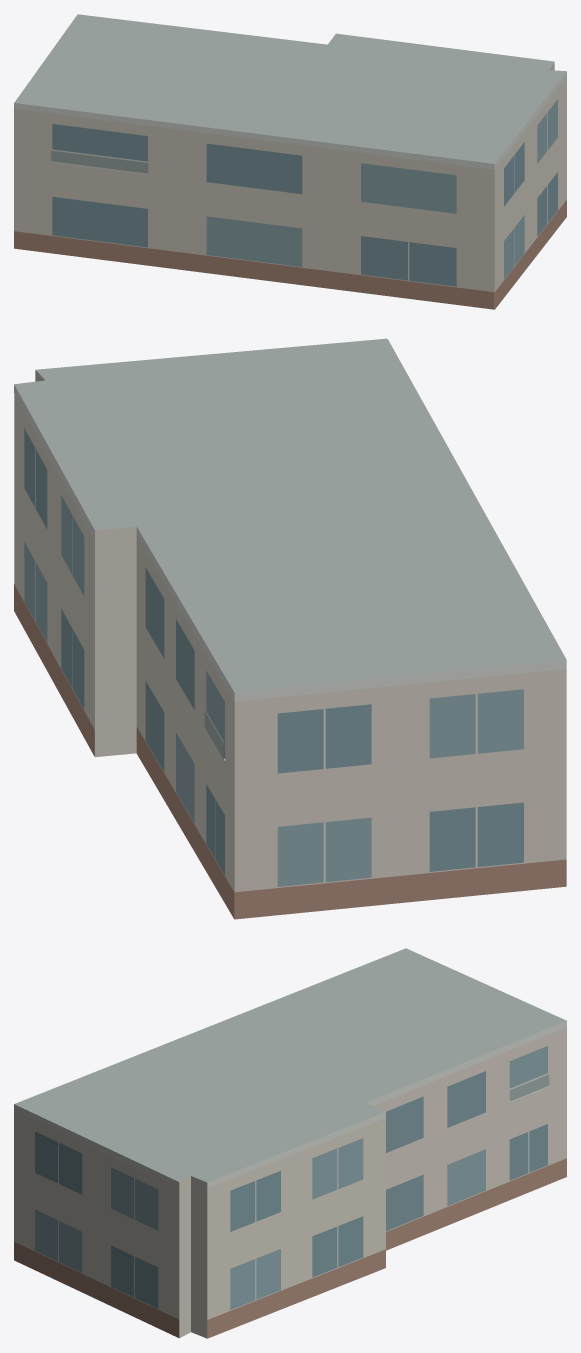
Rendered from survey-upis-32674812.glb.
3 renders of one model, top to bottom at view 1: azimuth 30°, elevation 25°; view 2: azimuth 150°, elevation 25°; view 3: azimuth 270°, elevation 25°, orthographic. The views are drawn at different scales.
Parts seen in each view (by area): view 1: survey-upis-32674812.tmp; view 2: survey-upis-32674812.tmp; view 3: survey-upis-32674812.tmp.
Boxes of the visible parts, box(x1,y1,x2,y2) form: survey-upis-32674812.tmp: box(14, 14, 566, 309); survey-upis-32674812.tmp: box(14, 338, 566, 919); survey-upis-32674812.tmp: box(14, 948, 566, 1338).
Size of the model in its own units: 19.63 by 6.1 by 19.57.
